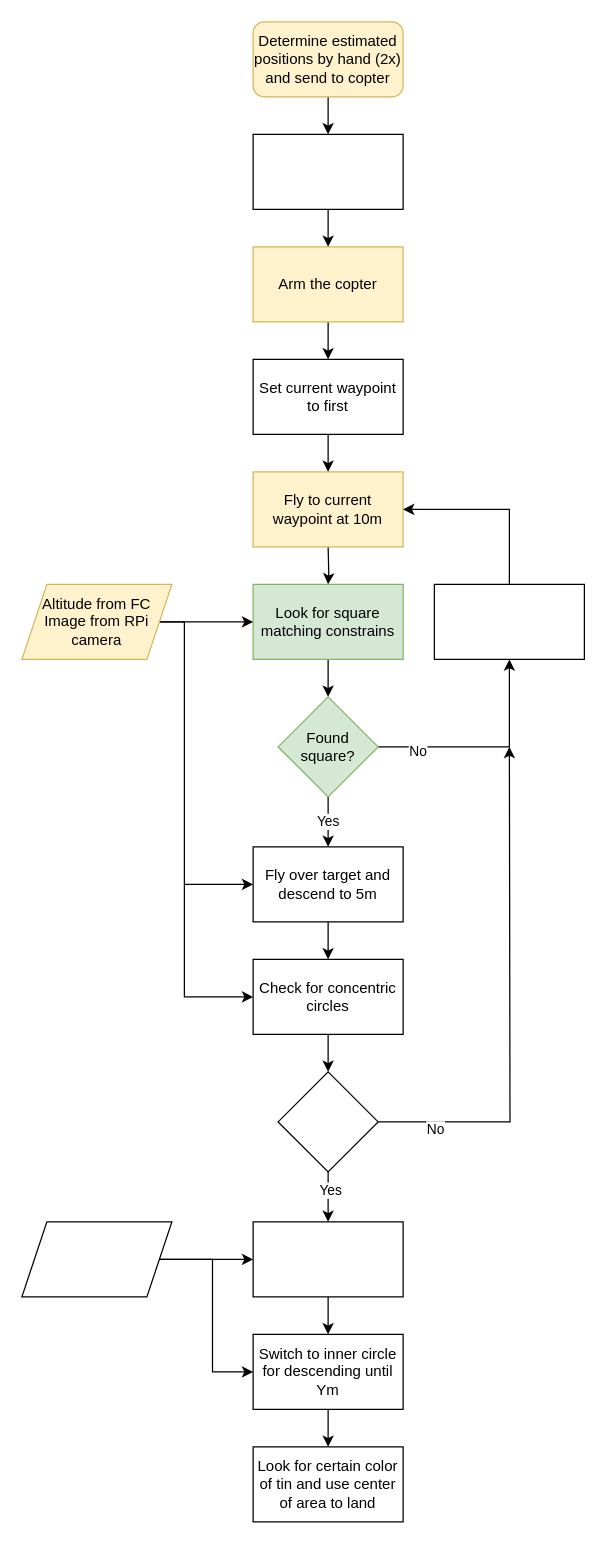
The diagram is 606 pixels wide and 1544 high, and some of its shapes have lost their labels. The centre of each missing label's shape, as x and y in pixels:
Advance current waypoint by one: (x=508, y=621)
Create set of waypoints to search at: (x=327, y=171)
Descent to Xm using concentric circles: (x=327, y=1259)
Estimate height using circles: (x=96, y=1259)
Found concentric circles?: (x=327, y=1121)
